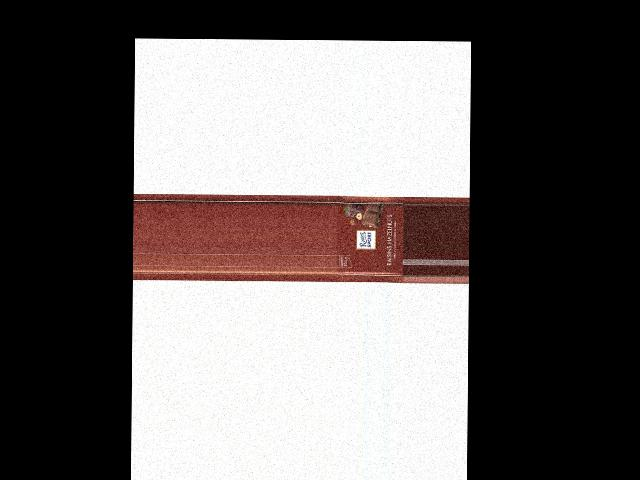chocolate: (336, 194, 404, 283)
